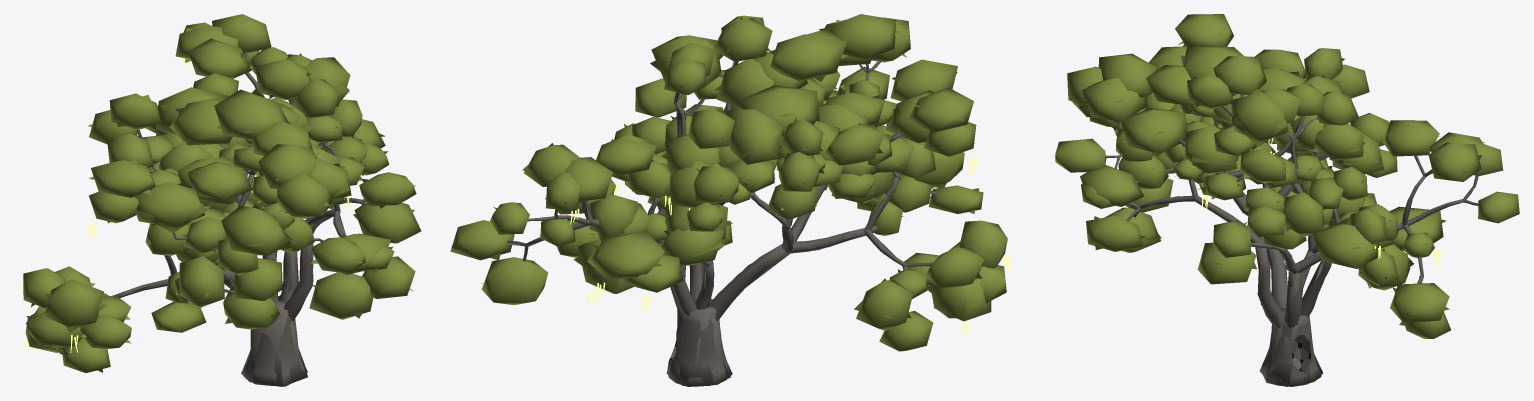
Rendered from scrub_oak_7.glb.
3 views of the same model, side by side, from view 1: azimuth 30°, elevation 25°; view 2: azimuth 150°, elevation 25°; view 3: azimuth 270°, elevation 25° (orthographic). The views are drawn at different scales.
Visible parts, largest first — view 1: ScrubOak_Far_Foliage, ScrubOak_Far_Bark, ScrubOak_Foliage_42_Leaves, ScrubOak_Foliage_63_Leaves, ScrubOak_Foliage_115_Leaves, ScrubOak_LimbWood_Bole, ScrubOak_Foliage_84_Leaves, ScrubOak_Foliage_94_Leaves, ScrubOak_Foliage_4_Leaves, ScrubOak_Foliage_48_Leaves, ScrubOak_Foliage_104_Leaves, ScrubOak_Foliage_86_Leaves (+50 smaller); view 2: ScrubOak_Far_Bark, ScrubOak_LimbWood_3, ScrubOak_Far_Foliage, ScrubOak_LimbWood_Bole, ScrubOak_Foliage_42_Leaves, ScrubOak_Foliage_40_Leaves, ScrubOak_Foliage_20_Leaves, ScrubOak_Foliage_76_Leaves, ScrubOak_Foliage_48_Leaves, ScrubOak_Foliage_59_Leaves, ScrubOak_Foliage_52_Leaves, ScrubOak_Foliage_96_Leaves (+57 smaller); view 3: ScrubOak_Far_Bark, ScrubOak_Foliage_114_Leaves, ScrubOak_Far_Foliage, ScrubOak_Foliage_7_Leaves, ScrubOak_LimbWood_4, ScrubOak_Foliage_61_Leaves, ScrubOak_Foliage_29_Leaves, ScrubOak_LimbWood_1, ScrubOak_Foliage_19_Leaves, ScrubOak_LimbWood_Bole, ScrubOak_Foliage_17_Leaves, ScrubOak_Foliage_15_Leaves (+55 smaller).
Boxes of the visible parts, x1,y1,x2,y2 form: ScrubOak_Far_Foliage: [26, 28, 415, 372]; ScrubOak_Far_Bark: [127, 52, 362, 386]; ScrubOak_Foliage_42_Leaves: [214, 89, 287, 139]; ScrubOak_Foliage_63_Leaves: [221, 205, 290, 255]; ScrubOak_Foliage_115_Leaves: [309, 272, 373, 319]; ScrubOak_LimbWood_Bole: [241, 296, 307, 386]; ScrubOak_Foliage_84_Leaves: [134, 181, 204, 227]; ScrubOak_Foliage_94_Leaves: [44, 279, 104, 327]; ScrubOak_Foliage_4_Leaves: [354, 202, 421, 243]; ScrubOak_Foliage_48_Leaves: [169, 96, 232, 145]; ScrubOak_Foliage_104_Leaves: [179, 256, 224, 306]; ScrubOak_Foliage_86_Leaves: [187, 161, 252, 200]; ScrubOak_Far_Bark: [507, 60, 936, 385]; ScrubOak_LimbWood_3: [710, 60, 937, 321]; ScrubOak_Far_Foliage: [451, 17, 999, 340]; ScrubOak_LimbWood_Bole: [667, 298, 732, 386]; ScrubOak_Foliage_42_Leaves: [770, 34, 846, 80]; ScrubOak_Foliage_40_Leaves: [587, 230, 664, 279]; ScrubOak_Foliage_20_Leaves: [481, 257, 548, 304]; ScrubOak_Foliage_76_Leaves: [724, 109, 783, 164]; ScrubOak_Foliage_48_Leaves: [740, 85, 819, 136]; ScrubOak_Foliage_59_Leaves: [830, 14, 896, 59]; ScrubOak_Foliage_52_Leaves: [907, 87, 973, 132]; ScrubOak_Foliage_96_Leaves: [856, 280, 913, 330]; ScrubOak_Far_Bark: [1105, 94, 1478, 386]; ScrubOak_Foliage_114_Leaves: [1121, 108, 1186, 153]; ScrubOak_Far_Foliage: [1079, 32, 1498, 331]; ScrubOak_Foliage_7_Leaves: [1312, 222, 1379, 268]; ScrubOak_LimbWood_4: [1126, 94, 1317, 328]; ScrubOak_Foliage_61_Leaves: [1082, 77, 1147, 121]; ScrubOak_Foliage_29_Leaves: [1230, 92, 1287, 140]; ScrubOak_LimbWood_1: [1236, 116, 1478, 317]; ScrubOak_Foliage_19_Leaves: [1390, 283, 1449, 322]; ScrubOak_LimbWood_Bole: [1259, 308, 1321, 386]; ScrubOak_Foliage_17_Leaves: [1383, 120, 1439, 156]; ScrubOak_Foliage_15_Leaves: [1428, 142, 1481, 181].
Bounding box in the file's own units: 5.62 × 4.01 × 5.49.
